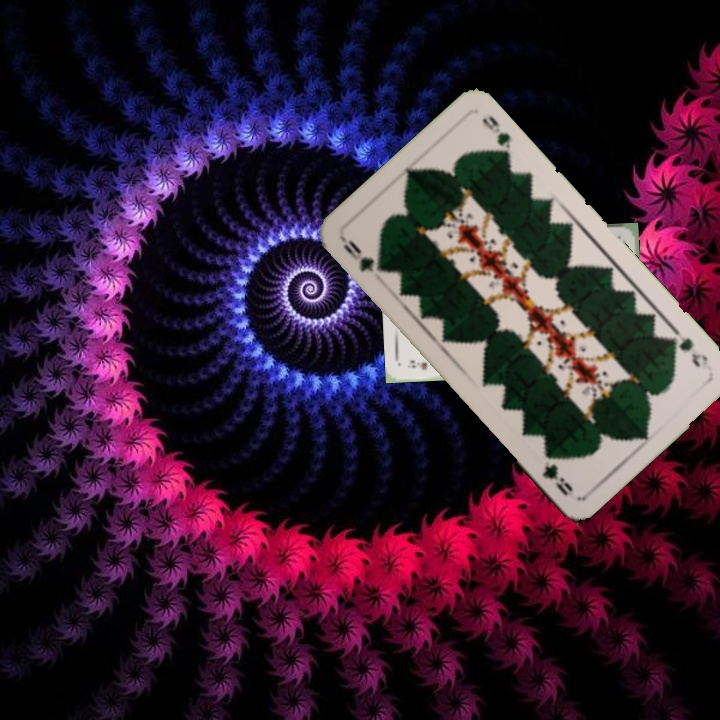G9: (664, 325, 715, 373), (338, 234, 388, 275)
S9: (405, 358, 430, 372)
